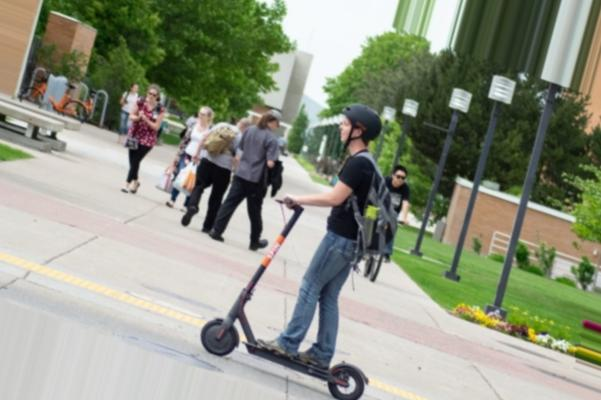scooter: (200, 197, 370, 400)
with helmet: (338, 105, 385, 149)
